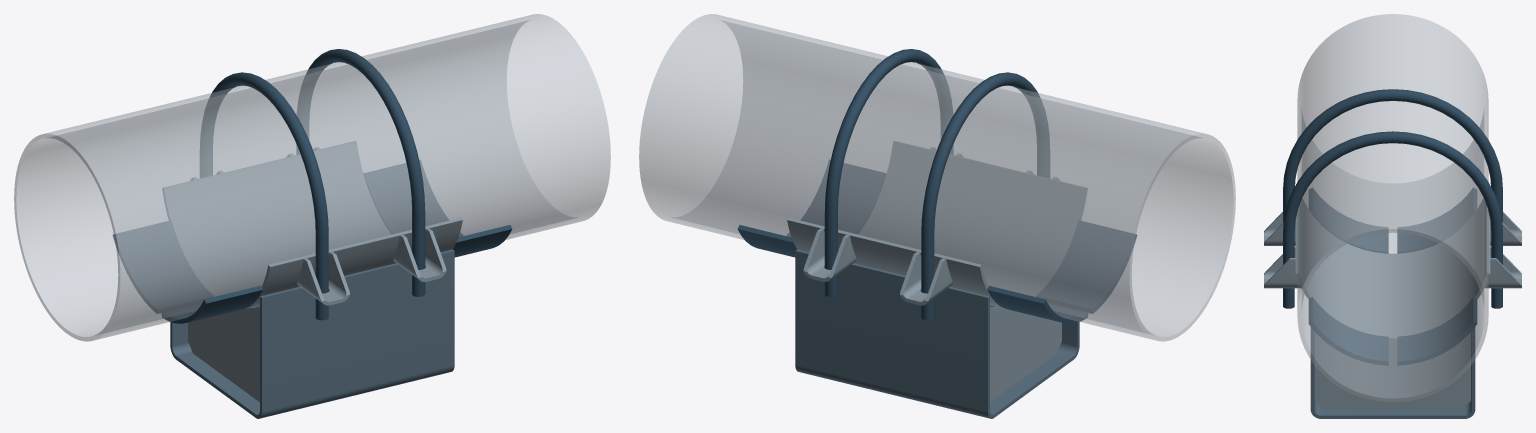
The model's file is TS-670.00.00-25-opora-dn325-H150.glb.
3 renders of one model, left to right at view 1: azimuth 30°, elevation 25°; view 2: azimuth 150°, elevation 25°; view 3: azimuth 270°, elevation 25°, orthographic. The views are drawn at different scales.
Parts seen in each view (by area): view 1: truba, skoba_1, podushka_0, upor_-1_1, homut_-1, homut_1, rebro_2, upor_1_1, upor_-1_-1, ushko_8, ushko_6, upor_1_-1; view 2: truba, skoba_1, podushka_0, upor_-1_-1, homut_-1, homut_1, rebro_2, upor_1_-1, upor_-1_1, ushko_7, ushko_5, upor_1_1; view 3: truba, podushka_0, rebro_4, homut_1, homut_-1, skoba_1, upor_1_1, upor_1_-1, upor_-1_1, upor_-1_-1, ushko_5, ushko_6 (+2 smaller).
Part boxes in pixels (<box>): truba: <box>14,14,610,341</box>; skoba_1: <box>170,249,454,418</box>; podushka_0: <box>162,141,462,310</box>; upor_-1_1: <box>112,220,213,313</box>; homut_-1: <box>200,72,328,320</box>; homut_1: <box>296,49,425,296</box>; rebro_2: <box>188,306,259,402</box>; upor_1_1: <box>364,159,462,236</box>; upor_-1_-1: <box>162,285,262,323</box>; ushko_8: <box>297,252,349,305</box>; ushko_6: <box>393,228,446,281</box>; upor_1_-1: <box>453,225,512,257</box>; truba: <box>639,14,1235,341</box>; skoba_1: <box>795,249,1079,418</box>; podushka_0: <box>787,141,1087,310</box>; upor_-1_-1: <box>1036,220,1137,313</box>; homut_-1: <box>921,72,1049,320</box>; homut_1: <box>824,49,953,296</box>; rebro_2: <box>990,306,1061,402</box>; upor_1_-1: <box>787,159,885,236</box>; upor_-1_1: <box>987,285,1087,323</box>; ushko_7: <box>900,252,952,305</box>; ushko_5: <box>803,228,856,281</box>; upor_1_1: <box>737,225,796,257</box>; truba: <box>1297,14,1488,402</box>; podushka_0: <box>1295,198,1490,341</box>; rebro_4: <box>1315,332,1470,408</box>; homut_1: <box>1283,131,1502,308</box>; homut_-1: <box>1283,89,1502,222</box>; skoba_1: <box>1310,327,1475,418</box>; upor_1_1: <box>1397,297,1477,365</box>; upor_1_-1: <box>1308,297,1388,365</box>; upor_-1_1: <box>1397,188,1476,253</box>; upor_-1_-1: <box>1309,188,1388,253</box>; ushko_5: <box>1485,246,1521,288</box>; ushko_6: <box>1264,246,1300,288</box>.
Size of the model in its own units: 865 by 499 by 438.
